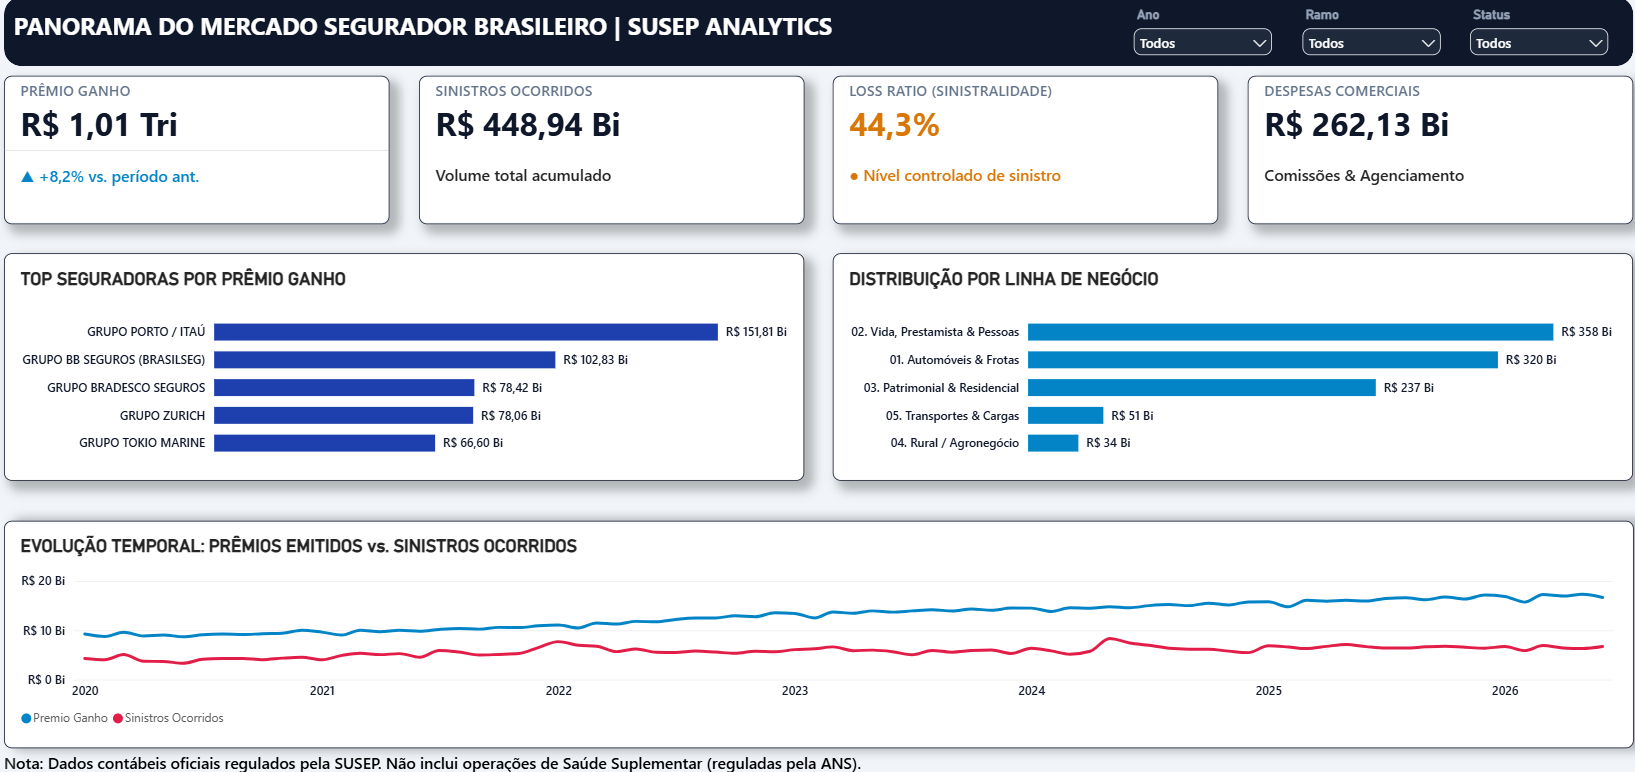

This screenshot's page, from the dashboard's own definition file:
{"tool":"powerbi","page":{"name":"Página 1","canvas":[1920,1080],"ordinal":0},"visuals":[{"type":"shape","box":[20,0,1650,70],"z":500},{"type":"slicer","fields":{"Values":["dCalendario.Ano"]},"box":[1160,10,150,50],"z":2000},{"type":"slicer","fields":{"Values":["dim_ramos.linha_negocio"]},"box":[1330,10,150,50],"z":3000},{"type":"slicer","fields":{"Values":["dim_ramos.status_carteira"]},"box":[1500,10,150,50],"z":4000},{"type":"cardVisual","fields":{"Data":["_tabMedidas.Premio Ganho"]},"box":[20,80,390,150],"z":5000},{"type":"cardVisual","fields":{"Data":["_tabMedidas.Sinistros Ocorridos"]},"box":[440,80,390,150],"z":6000},{"type":"cardVisual","fields":{"Data":["_tabMedidas.Loss Ratio %"]},"box":[860,80,390,150],"z":7000},{"type":"cardVisual","fields":{"Data":["_tabMedidas.Despesas Comerciais"]},"box":[1280,80,390,150],"z":8000},{"type":"clusteredBarChart","title":"TOP SEGURADORAS POR PRÊMIO GANHO","fields":{"Category":["dim_seguradoras.grupo_economico"],"Y":["_tabMedidas.Premio Ganho"]},"box":[20.5,260,810,230],"z":9000},{"type":"clusteredBarChart","title":"DISTRIBUIÇÃO POR LINHA DE NEGÓCIO","fields":{"Category":["dim_ramos.linha_negocio"],"Y":["_tabMedidas.Premio Ganho"]},"box":[860,260,810,230],"z":10000},{"type":"lineChart","title":"EVOLUÇÃO TEMPORAL: PRÊMIOS EMITIDOS vs. SINISTROS OCORRIDOS","fields":{"Y":["_tabMedidas.Premio Ganho","_tabMedidas.Sinistros Ocorridos"],"Category":["dCalendario.Date.Variation.Hierarquia de datas.Ano","dCalendario.Date.Variation.Hierarquia de datas.Mês"]},"box":[20,530,1650,230.7],"z":11000},{"type":"textbox","box":[20.5,765,1225,50],"z":12000},{"type":"textbox","box":[0,12.5,888.8,60],"z":12500}]}

Visuals, with their boxes on the page's 1920x1080 design canvas (x1, y1, x2, y2). These are canvas units, not pixel positions in the 1635x772 screenshot, which may show the page scaled, cropped or inside an application window:
shape: crop(20, 0, 1670, 70)
slicer - dCalendario.Ano: crop(1160, 10, 1310, 60)
slicer - dim_ramos.linha_negocio: crop(1330, 10, 1480, 60)
slicer - dim_ramos.status_carteira: crop(1500, 10, 1650, 60)
cardVisual - _tabMedidas.Premio Ganho: crop(20, 80, 410, 230)
cardVisual - _tabMedidas.Sinistros Ocorridos: crop(440, 80, 830, 230)
cardVisual - _tabMedidas.Loss Ratio %: crop(860, 80, 1250, 230)
cardVisual - _tabMedidas.Despesas Comerciais: crop(1280, 80, 1670, 230)
"TOP SEGURADORAS POR PRÊMIO GANHO" clusteredBarChart: crop(20, 260, 830, 490)
"DISTRIBUIÇÃO POR LINHA DE NEGÓCIO" clusteredBarChart: crop(860, 260, 1670, 490)
"EVOLUÇÃO TEMPORAL: PRÊMIOS EMITIDOS vs. SINISTROS OCORRIDOS" lineChart: crop(20, 530, 1670, 761)
textbox: crop(20, 765, 1246, 815)
textbox: crop(0, 12, 889, 72)
